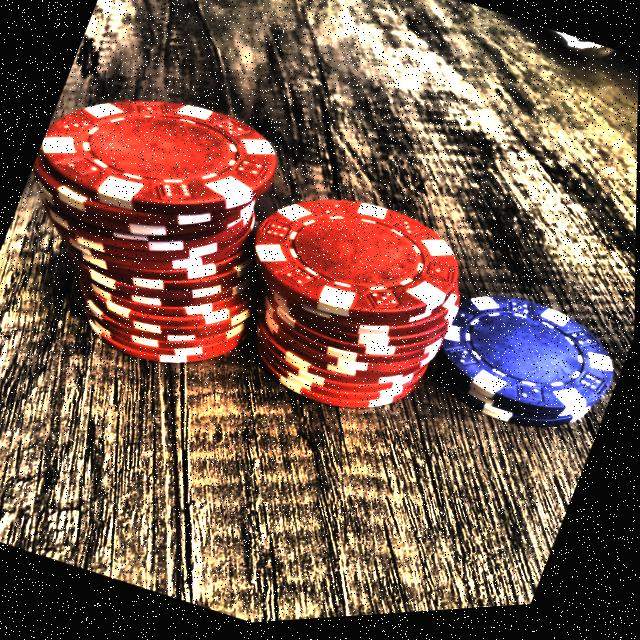Chip: (0, 52, 325, 405), (203, 166, 489, 452), (415, 274, 634, 467)
